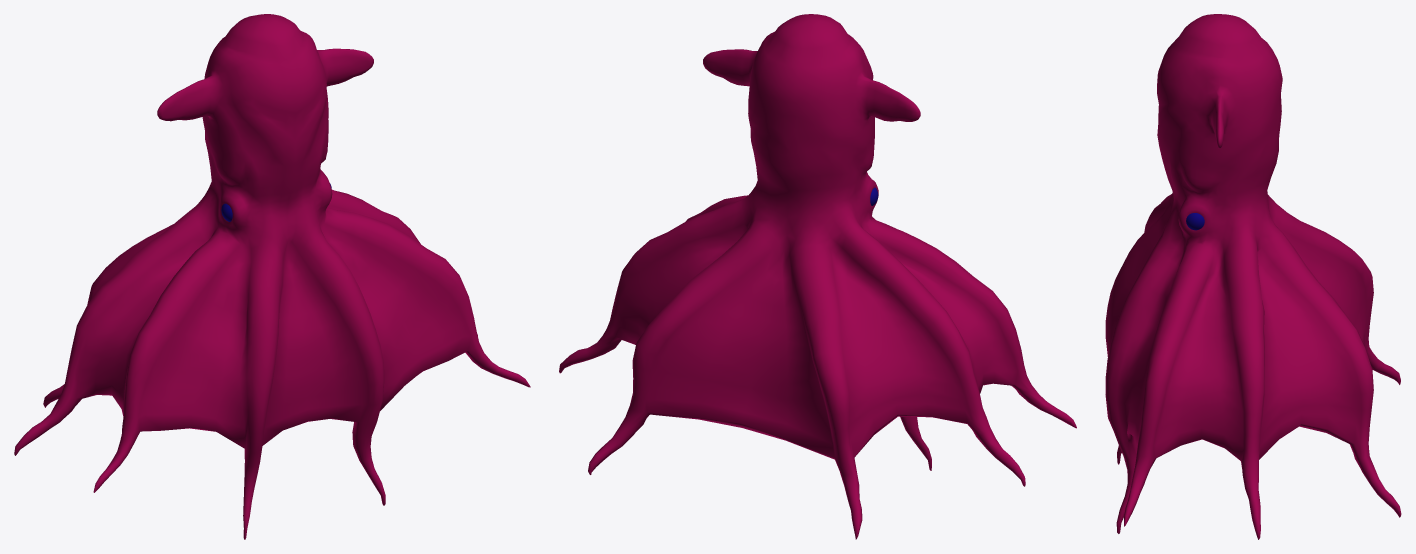
The model's file is squid.glb.
3 renders of one model, left to right at view 1: azimuth 30°, elevation 25°; view 2: azimuth 150°, elevation 25°; view 3: azimuth 270°, elevation 25°, orthographic. The views are drawn at different scales.
Parts seen in each view (by area): view 1: squid; view 2: squid; view 3: squid.
Part boxes in pixels (box(x1,y1,x2,y2)): squid: box(14, 14, 530, 539); squid: box(559, 14, 1076, 539); squid: box(1105, 14, 1401, 539).
Size of the model in its own units: 9.66 by 9.33 by 5.2.
